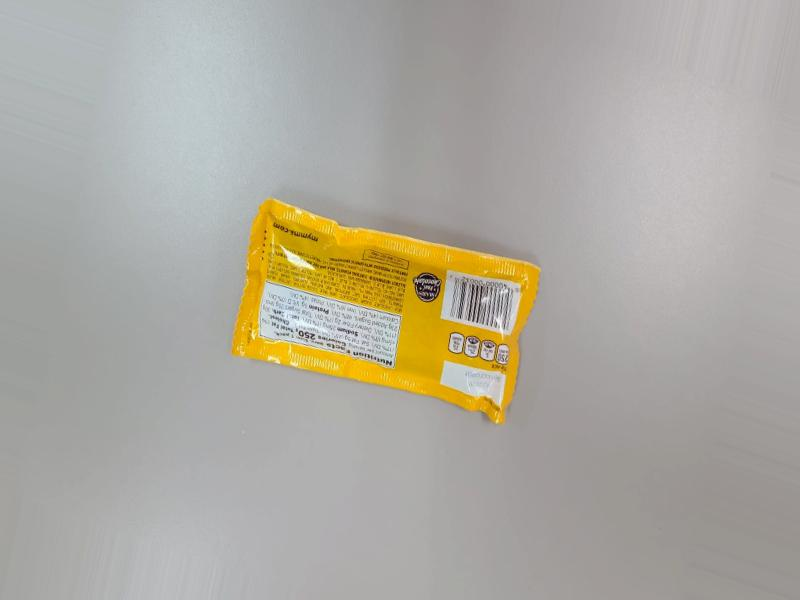m&m: (235, 189, 577, 381)
